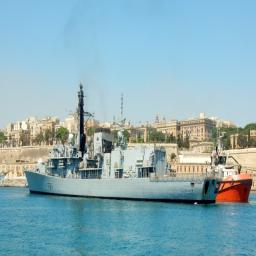Fragata: (25, 79, 222, 200)
